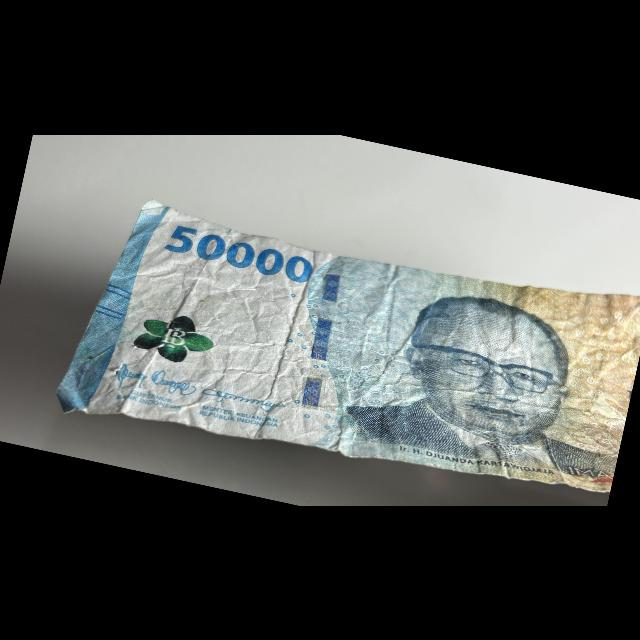Palsu-50k: (44, 182, 640, 497)
Tinta-Palsu-50k: (127, 298, 223, 379)
